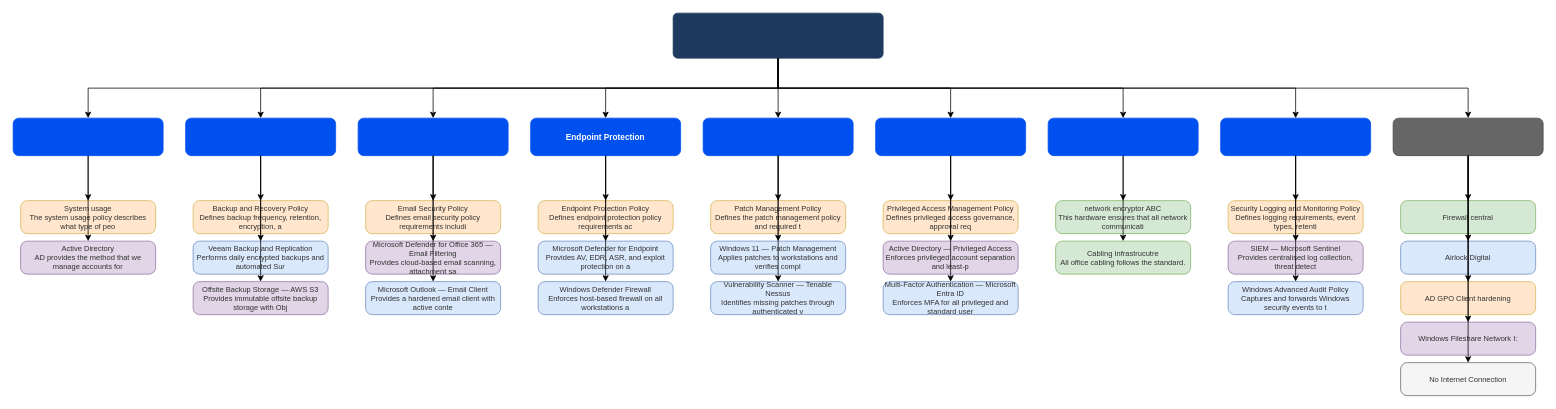
Some shapes in this 1556 by 409 pixel diagram are drawn without their labels. The box of each missing label's shape, as (x1, y1, x2, y2) in pixels:
Account Management: (12, 117, 163, 156)
Backup and Recovery: (185, 117, 336, 156)
Email Security: (357, 117, 508, 156)
Example Research Network: (672, 12, 883, 58)
Patch Management: (702, 117, 853, 156)
Privileged Access Management: (875, 117, 1026, 156)
Remote office: (1047, 117, 1198, 156)
Security Monitoring and Logging: (1220, 117, 1371, 156)
Uncategorised Components: (1392, 117, 1543, 156)
